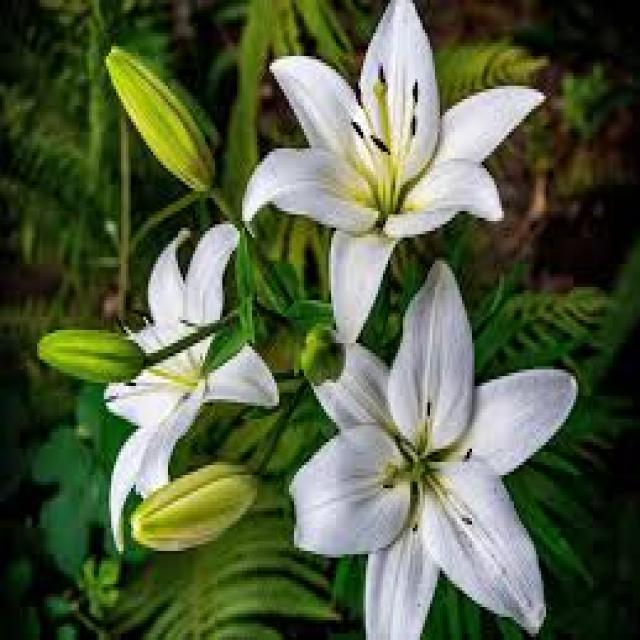lily: (240, 15, 552, 331)
